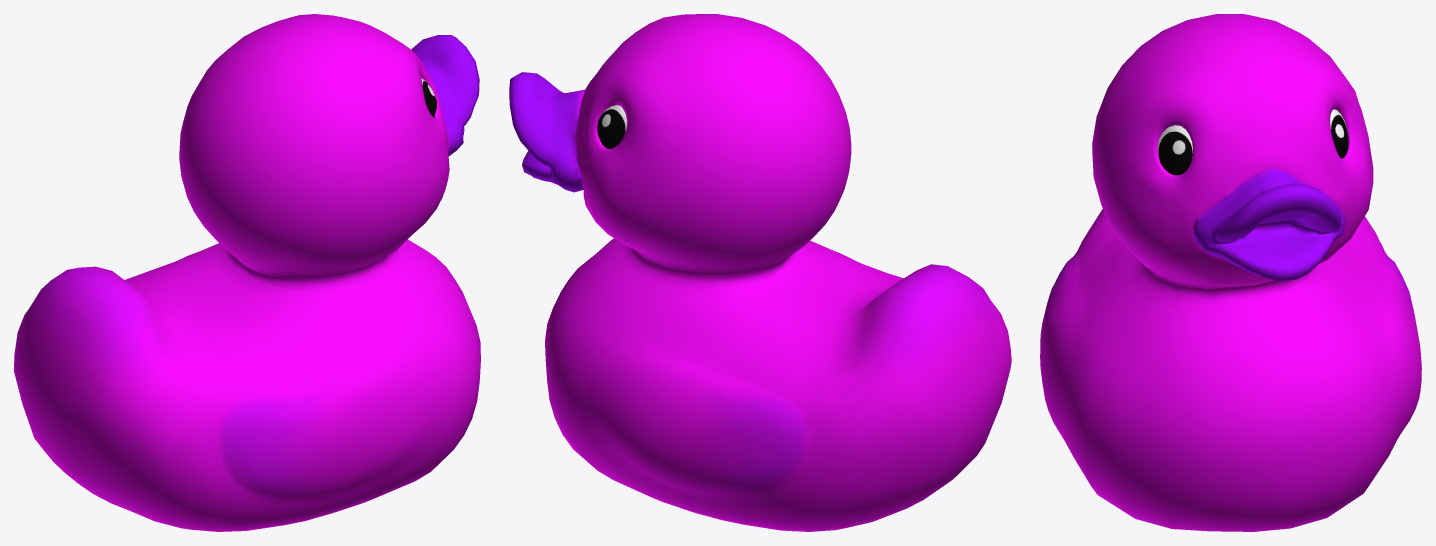
File: DuckLQ.gltf
3 renders of one model, left to right at view 1: azimuth 30°, elevation 25°; view 2: azimuth 150°, elevation 25°; view 3: azimuth 270°, elevation 25°, orthographic. The views are drawn at different scales.
Visible parts, largest first — view 1: LOD3spShape; view 2: LOD3spShape; view 3: LOD3spShape.
Boxes of the visible parts, x1,y1,x2,y2 form: LOD3spShape: [14, 14, 480, 531]; LOD3spShape: [509, 14, 1011, 531]; LOD3spShape: [1040, 14, 1421, 531].
Bounding box in the file's own units: 1.65 × 1.54 × 1.15.
Materials: 1 (1 with a texture image).
